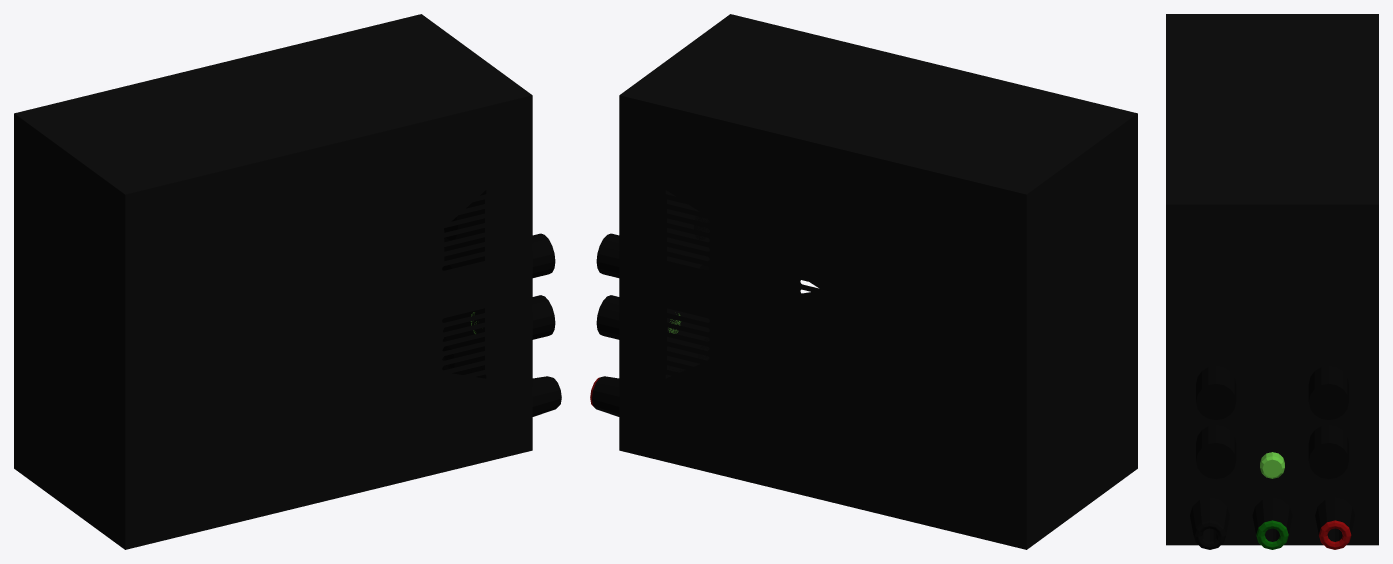
The model's file is DC_Power_Supply.fbx.
The picture shows the model from 3 angles, left to right: view 1: azimuth 30°, elevation 25°; view 2: azimuth 150°, elevation 25°; view 3: azimuth 270°, elevation 25°; orthographic projection. The views are drawn at different scales.
Parts seen in each view (by area): view 1: DC Power Supply, Socket_Neg, Knob_AFine, Knob_VFine; view 2: DC Power Supply, Socket_Pos, Knob_ACoarse, Knob_VCoarse; view 3: DC Power Supply, Knob_VCoarse, Knob_VFine, Knob_ACoarse, Knob_AFine, Socket_GND, Socket_Neg, Socket_Pos, Power_Button.
Part boxes in pixels (<box>): DC Power Supply: <box>14,14,532,549</box>; Socket_Neg: <box>532,376,561,416</box>; Knob_AFine: <box>532,295,555,339</box>; Knob_VFine: <box>532,233,555,277</box>; DC Power Supply: <box>619,14,1137,549</box>; Socket_Pos: <box>590,376,619,416</box>; Knob_ACoarse: <box>596,295,619,339</box>; Knob_VCoarse: <box>596,233,619,277</box>; DC Power Supply: <box>1166,14,1378,545</box>; Knob_VCoarse: <box>1308,366,1348,419</box>; Knob_VFine: <box>1196,366,1236,419</box>; Knob_ACoarse: <box>1308,425,1348,478</box>; Knob_AFine: <box>1196,425,1236,478</box>; Socket_GND: <box>1252,497,1292,549</box>; Socket_Neg: <box>1190,497,1229,549</box>; Socket_Pos: <box>1315,497,1354,549</box>; Power_Button: <box>1260,452,1284,478</box>.
Bounding box in the file's own units: 0.2 × 0.15 × 0.085.
